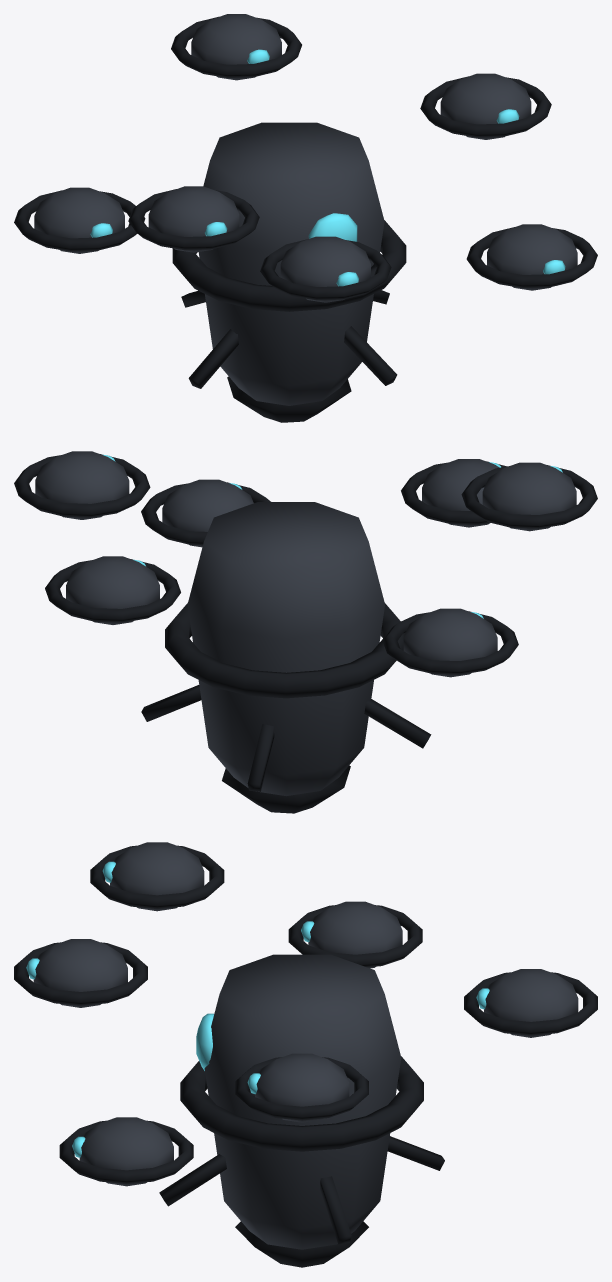
Rendered from unit_drone_swarm.obj.
The picture shows the model from 3 angles, top to bottom: view 1: azimuth 30°, elevation 25°; view 2: azimuth 150°, elevation 25°; view 3: azimuth 270°, elevation 25°; orthographic projection. The views are drawn at different scales.
Visible parts, largest first — view 1: Pod, PodRing, MiniBody_0, MiniBody_5, MiniBody_1, MiniBody_2, MiniBody_3, MiniBody_4, MiniRing_2, MiniRing_4, MiniRing_5, MiniRing_0 (+6 smaller); view 2: Pod, PodRing, MiniBody_1, MiniBody_5, MiniBody_0, MiniBody_2, MiniBody_4, MiniRing_2, MiniRing_0, MiniRing_5, MiniRing_1, MiniBody_3 (+6 smaller); view 3: Pod, PodRing, MiniBody_0, MiniBody_5, MiniBody_4, MiniBody_2, MiniBody_3, MiniBody_1, MiniRing_3, MiniRing_2, MiniRing_0, MiniRing_4 (+7 smaller).
Part boxes in pixels (<box>): Pod: <box>198,122,384,405</box>; PodRing: <box>172,220,406,311</box>; MiniBody_0: <box>440,73,531,139</box>; MiniBody_5: <box>148,186,239,252</box>; MiniBody_1: <box>34,187,124,253</box>; MiniBody_2: <box>191,14,281,80</box>; MiniBody_3: <box>280,236,370,302</box>; MiniBody_4: <box>487,224,577,290</box>; MiniRing_2: <box>171,16,301,77</box>; MiniRing_4: <box>466,227,597,288</box>; MiniRing_5: <box>128,189,259,250</box>; MiniRing_0: <box>420,76,551,137</box>; Pod: <box>187,502,384,796</box>; PodRing: <box>165,603,405,698</box>; MiniBody_1: <box>403,608,497,677</box>; MiniBody_5: <box>482,462,576,531</box>; MiniBody_0: <box>35,451,129,519</box>; MiniBody_2: <box>66,556,159,624</box>; MiniBody_4: <box>162,479,253,547</box>; MiniRing_2: <box>45,559,180,622</box>; MiniRing_0: <box>14,454,150,517</box>; MiniRing_5: <box>461,465,597,528</box>; MiniRing_1: <box>382,611,518,674</box>; MiniBody_3: <box>422,459,499,527</box>; Pod: <box>204,954,401,1249</box>; PodRing: <box>180,1056,423,1151</box>; MiniBody_0: <box>255,1053,349,1122</box>; MiniBody_5: <box>110,842,204,911</box>; MiniBody_4: <box>79,1117,173,1186</box>; MiniBody_2: <box>484,969,578,1037</box>; MiniBody_3: <box>33,939,127,1007</box>; MiniBody_1: <box>308,901,402,968</box>; MiniRing_3: <box>14,942,147,1005</box>; MiniRing_2: <box>464,972,597,1035</box>; MiniRing_0: <box>235,1057,368,1120</box>; MiniRing_4: <box>59,1120,193,1184</box>.
Bounding box in the file's own units: 3.9 × 2.35 × 3.83.
